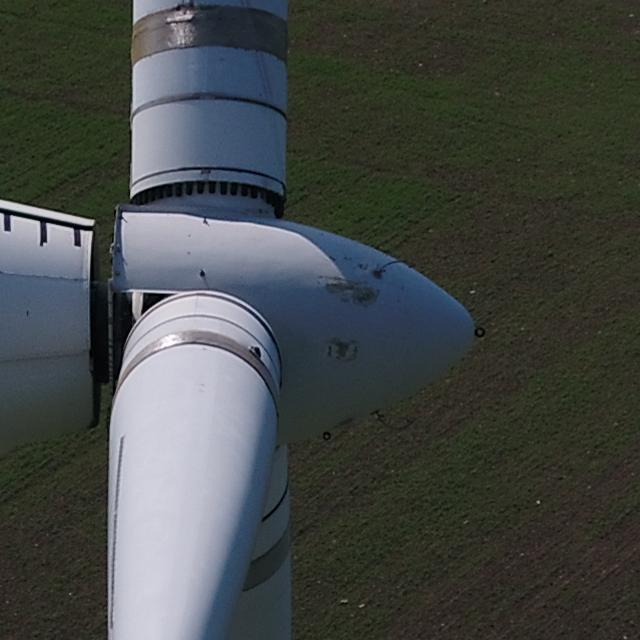damage: (321, 280, 381, 306), (332, 335, 353, 363)
